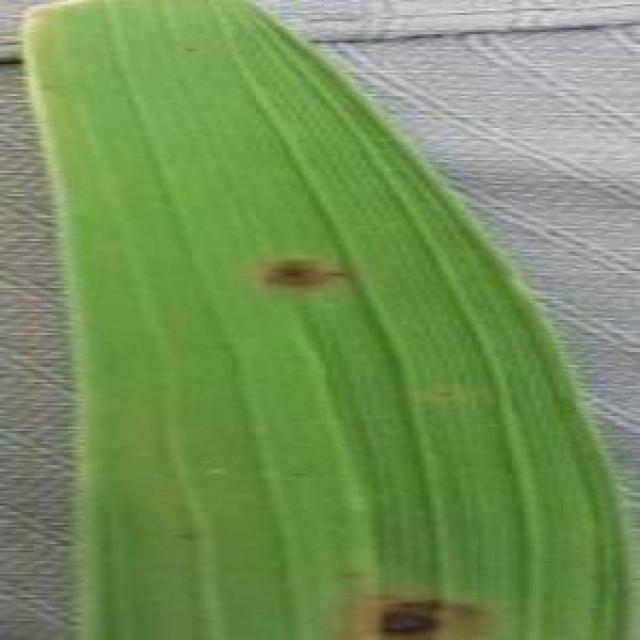Brown_Spot: (245, 241, 363, 299), (360, 601, 446, 638), (406, 584, 484, 623), (166, 521, 212, 548), (420, 380, 459, 405), (277, 461, 316, 486), (173, 34, 205, 58), (363, 586, 399, 604), (331, 566, 369, 582), (30, 77, 60, 96)
